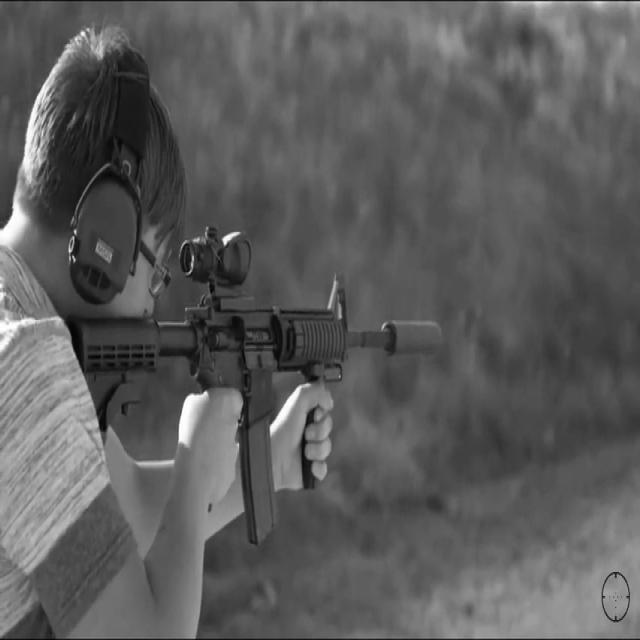Sniper: (68, 207, 446, 528)
